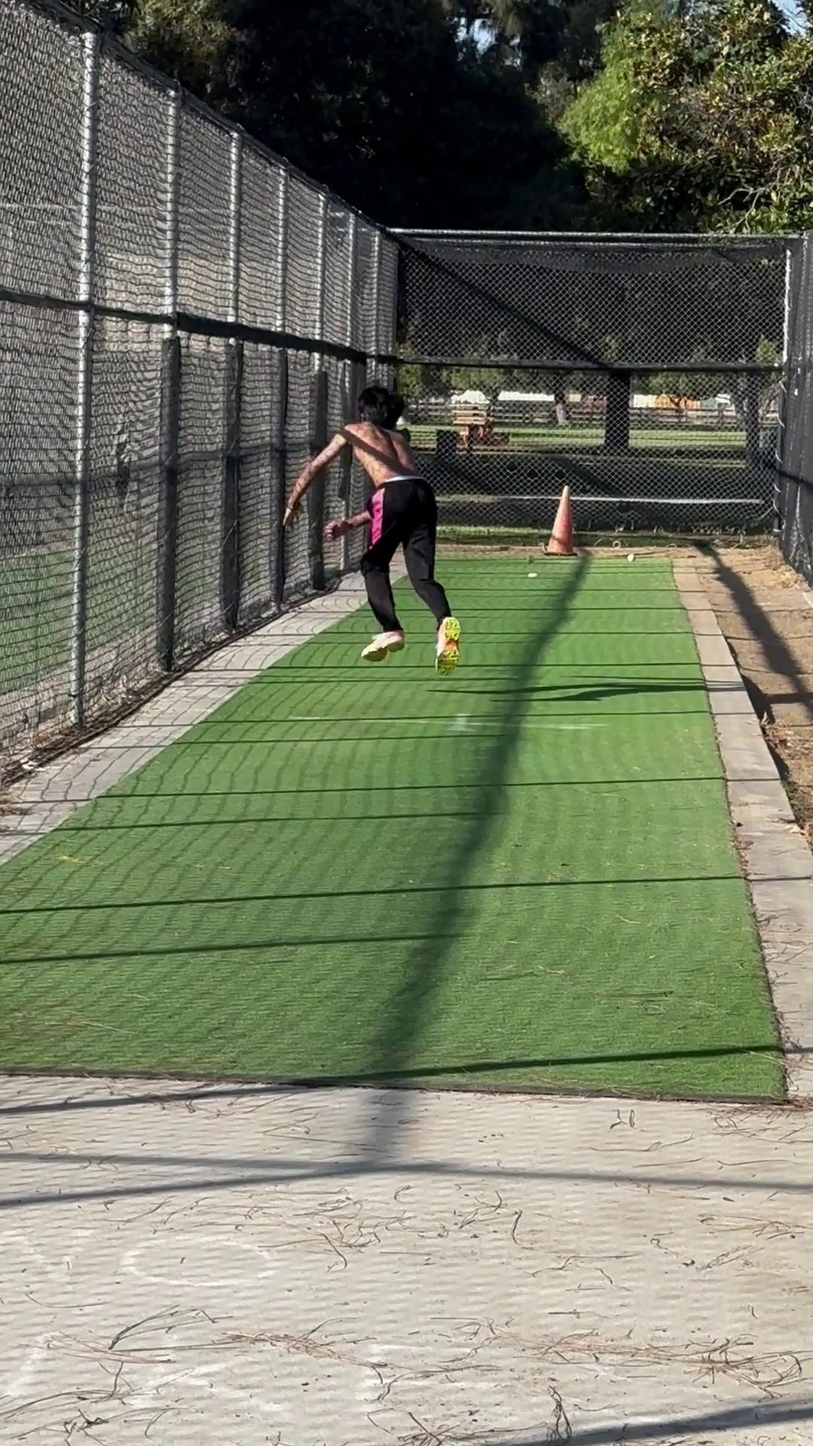ball: (523, 551, 537, 566)
